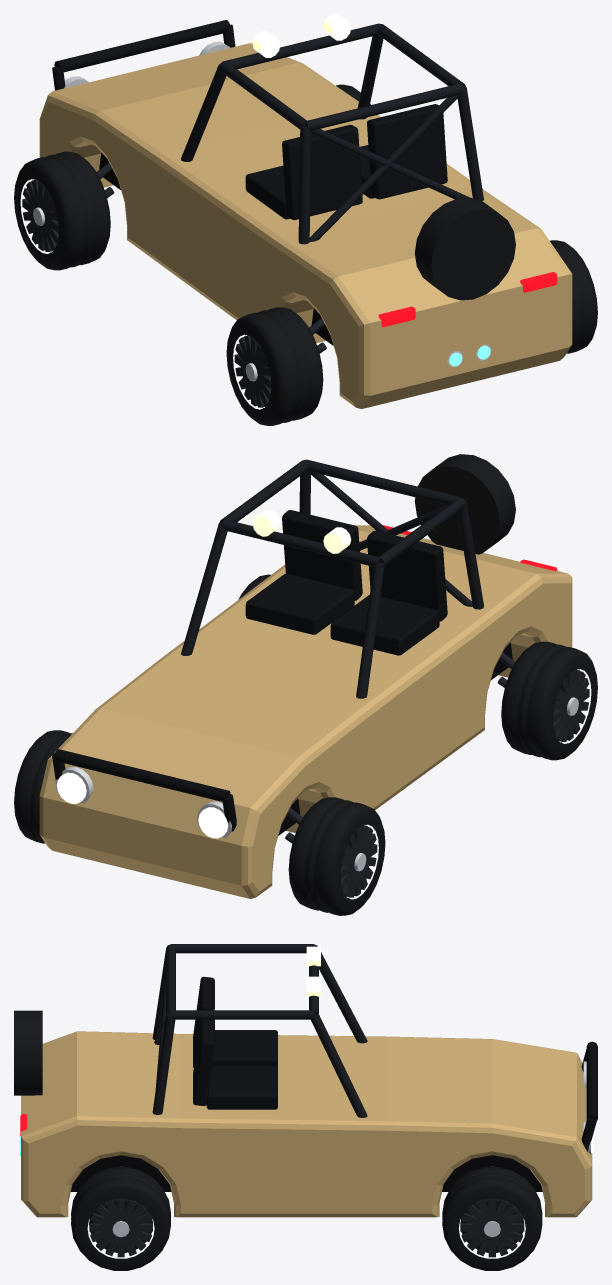
File: dune-jumper.glb
3 views of the same model, one above another, from view 1: azimuth 30°, elevation 25°; view 2: azimuth 150°, elevation 25°; view 3: azimuth 270°, elevation 25° (orthographic). The views are drawn at different scales.
Parts seen in each view (by area): view 1: Body, Tire (×3), SeatBack (×2), SpareTire, CageCross (×2), CageDiagonal (×2), CageRear (×2), CageRoof (×2), BullBar, CageFront (×2), SeatBase, Spotlight (×2); view 2: Body, Tire (×3), SeatBase (×2), SeatBack (×2), SpareTire, CageCross (×2), CageFront (×2), CageRoof (×2), BullBar, Headlight (×2), CageRear, CageDiagonal; view 3: Body, Tire (×2), SeatBase (×2), CageRoof (×2), SpareTire, WheelWell (×2), SeatBack (×2), CageFront (×2), CageRear, BullBar, CageCross.
Boxes of the visible parts, bbox=[...] form: Body: bbox=[39, 43, 572, 408]; Tire (×3): bbox=[14, 151, 597, 425]; SeatBack (×2): bbox=[282, 104, 447, 220]; SpareTire: bbox=[414, 197, 515, 300]; CageCross (×2): bbox=[221, 23, 463, 130]; CageDiagonal (×2): bbox=[309, 94, 469, 241]; CageRear (×2): bbox=[298, 87, 483, 244]; CageRoof (×2): bbox=[219, 24, 465, 129]; BullBar: bbox=[54, 20, 230, 72]; CageFront (×2): bbox=[181, 35, 383, 161]; SeatBase: bbox=[245, 165, 289, 219]; Spotlight (×2): bbox=[252, 14, 351, 57]; Body: bbox=[39, 525, 572, 898]; Tire (×3): bbox=[14, 641, 597, 915]; SeatBase (×2): bbox=[245, 573, 439, 655]; SeatBack (×2): bbox=[282, 510, 447, 621]; SpareTire: bbox=[414, 454, 515, 554]; CageCross (×2): bbox=[221, 459, 463, 566]; CageFront (×2): bbox=[181, 523, 384, 698]; CageRoof (×2): bbox=[219, 460, 466, 565]; BullBar: bbox=[54, 749, 230, 802]; Headlight (×2): bbox=[56, 772, 228, 838]; CageRear: bbox=[457, 501, 483, 609]; CageDiagonal: bbox=[307, 471, 472, 606]; Body: bbox=[21, 1031, 592, 1217]; Tire (×2): bbox=[71, 1167, 542, 1270]; SeatBase (×2): bbox=[206, 1030, 277, 1109]; CageRoof (×2): bbox=[171, 944, 313, 1019]; SpareTire: bbox=[14, 1010, 42, 1095]; WheelWell (×2): bbox=[71, 1155, 542, 1191]; SeatBack (×2): bbox=[193, 976, 214, 1105]; CageFront (×2): bbox=[311, 952, 367, 1117]; CageRear: bbox=[152, 1014, 175, 1114]; BullBar: bbox=[586, 1041, 597, 1120]; CageCross: bbox=[166, 944, 175, 1014].
Size of the model in its own units: 2.29 by 1.88 by 4.09.
